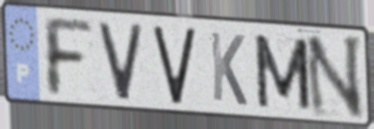F: (39, 14, 96, 100)
K: (208, 29, 250, 109)
M: (250, 32, 314, 113)
N: (302, 34, 366, 121)
V: (95, 19, 146, 103), (150, 25, 198, 107)
